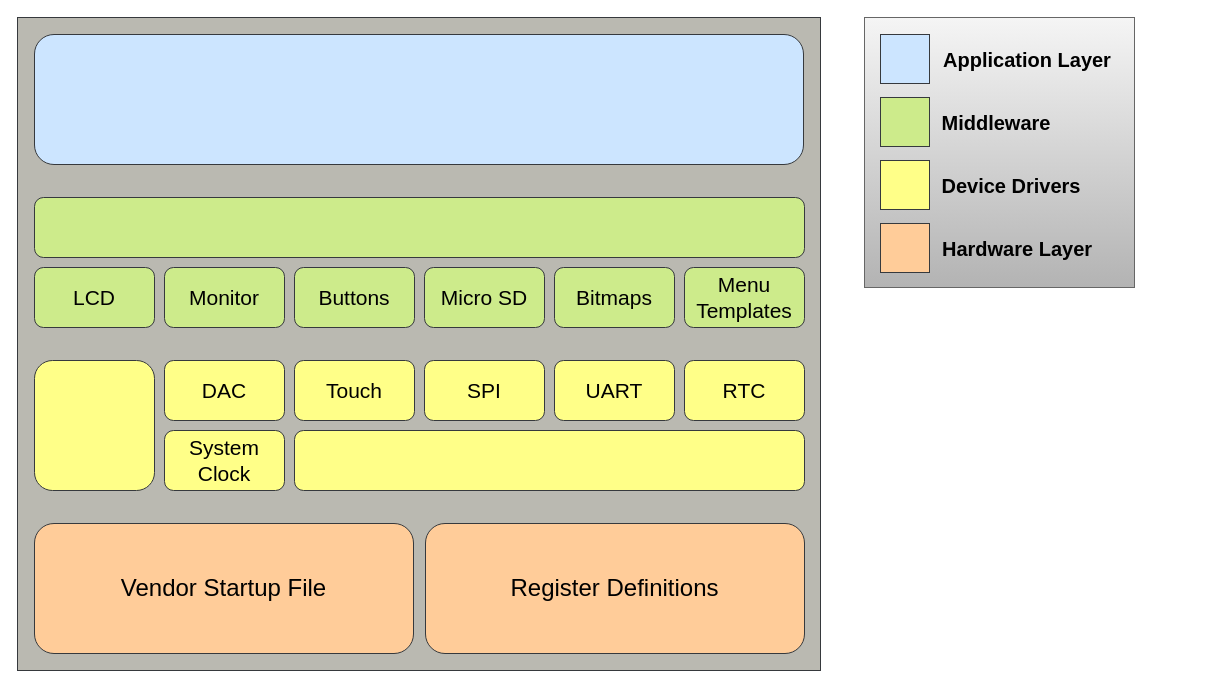
Some shapes in this 1209 by 688 pixel diagram are drawn without their labels. The shapes that lost their labels are listed below. From the top down, each one's box as (x1, y1, x2, y2) in pixels, then its label:
(34, 34, 804, 164): Main and Sub State Machines
(34, 196, 804, 258): GUI
(34, 360, 154, 490): Timers
(294, 430, 804, 490): Base GPIO Drivers
